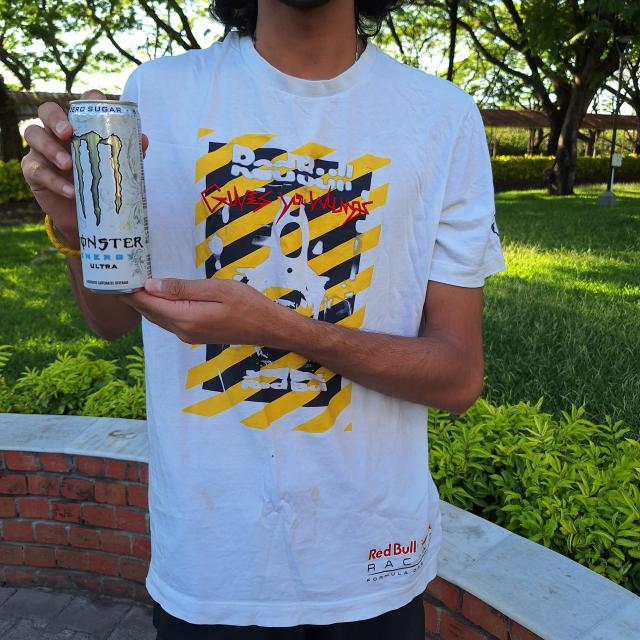White Monster: (56, 96, 157, 299)
